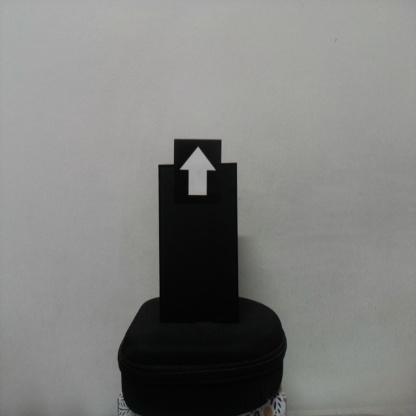id_1: (174, 141, 222, 207)
